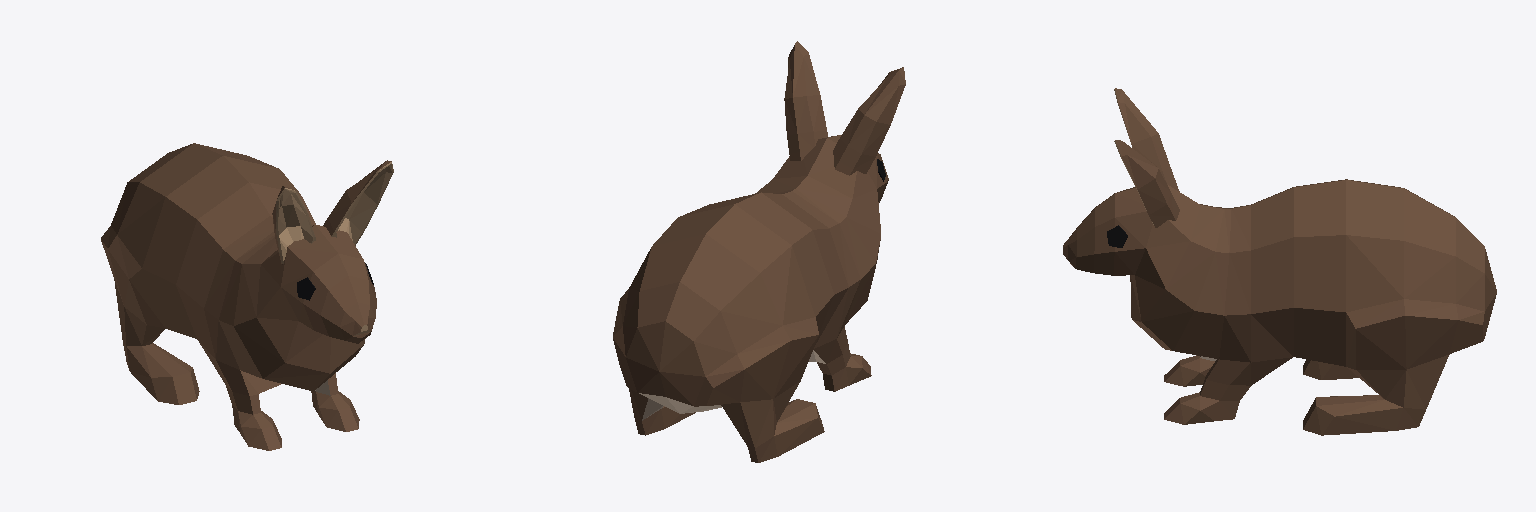
3 renders of one model, left to right at view 1: azimuth 30°, elevation 25°; view 2: azimuth 150°, elevation 25°; view 3: azimuth 270°, elevation 25°, orthographic.
Size of the model in its own units: 41.05 by 62.44 by 86.73.
1 materials, 1 textured.